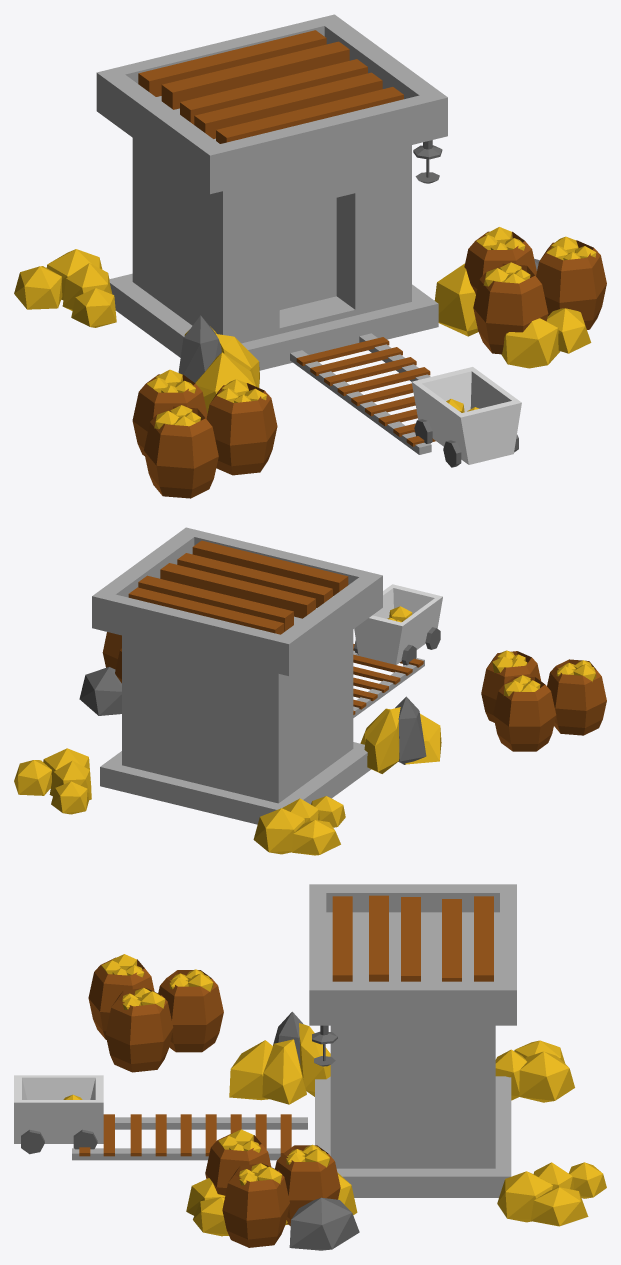
File: Mina_Nv4.glb
3 views of the same model, one above another, from view 1: azimuth 30°, elevation 25°; view 2: azimuth 150°, elevation 25°; view 3: azimuth 270°, elevation 25° (orthographic). The views are drawn at different scales.
Parts seen in each view (by area): view 1: Icosphere.002; view 2: Icosphere.002; view 3: Icosphere.002.
Boxes of the visible parts, bbox=[...] form: Icosphere.002: bbox=[14, 14, 606, 498]; Icosphere.002: bbox=[14, 527, 606, 855]; Icosphere.002: bbox=[14, 884, 606, 1250].
Bounding box in the file's own units: 2.91 × 1.34 × 3.11.
